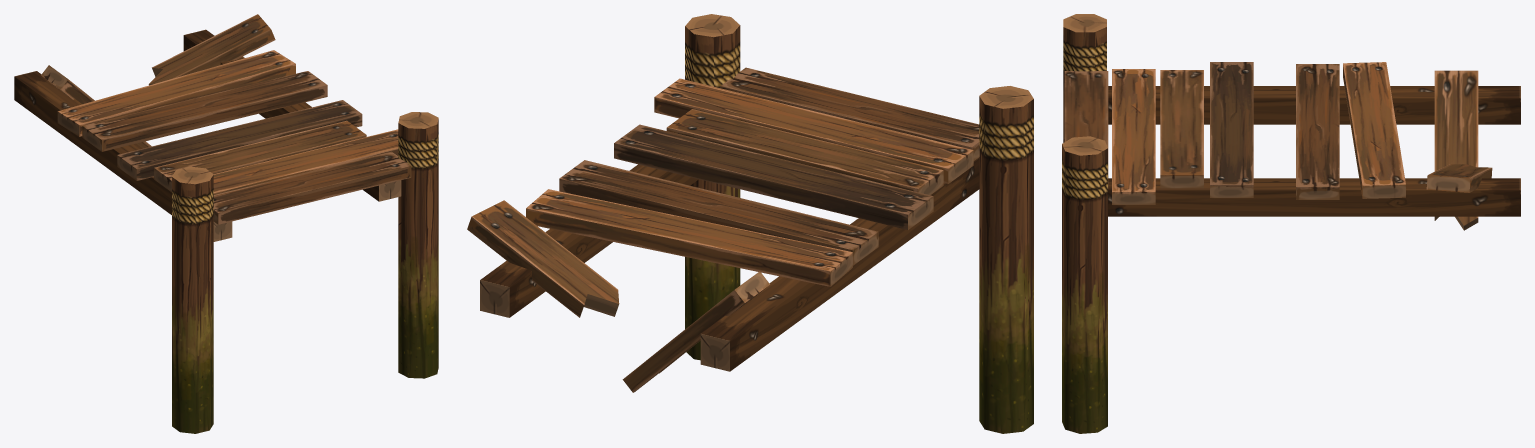
File: pier_middle_D.fbx
3 views of the same model, side by side, from view 1: azimuth 30°, elevation 25°; view 2: azimuth 150°, elevation 25°; view 3: azimuth 270°, elevation 25° (orthographic). The views are drawn at different scales.
Visible parts, largest first — view 1: pier_middle_D; view 2: pier_middle_D; view 3: pier_middle_D.
Boxes of the visible parts, left/top/right/bottom form: pier_middle_D: left=14, top=14, right=438, bottom=433; pier_middle_D: left=467, top=14, right=1033, bottom=433; pier_middle_D: left=1062, top=14, right=1520, bottom=433.
Bounding box in the file's own units: 231 × 211 × 316.
